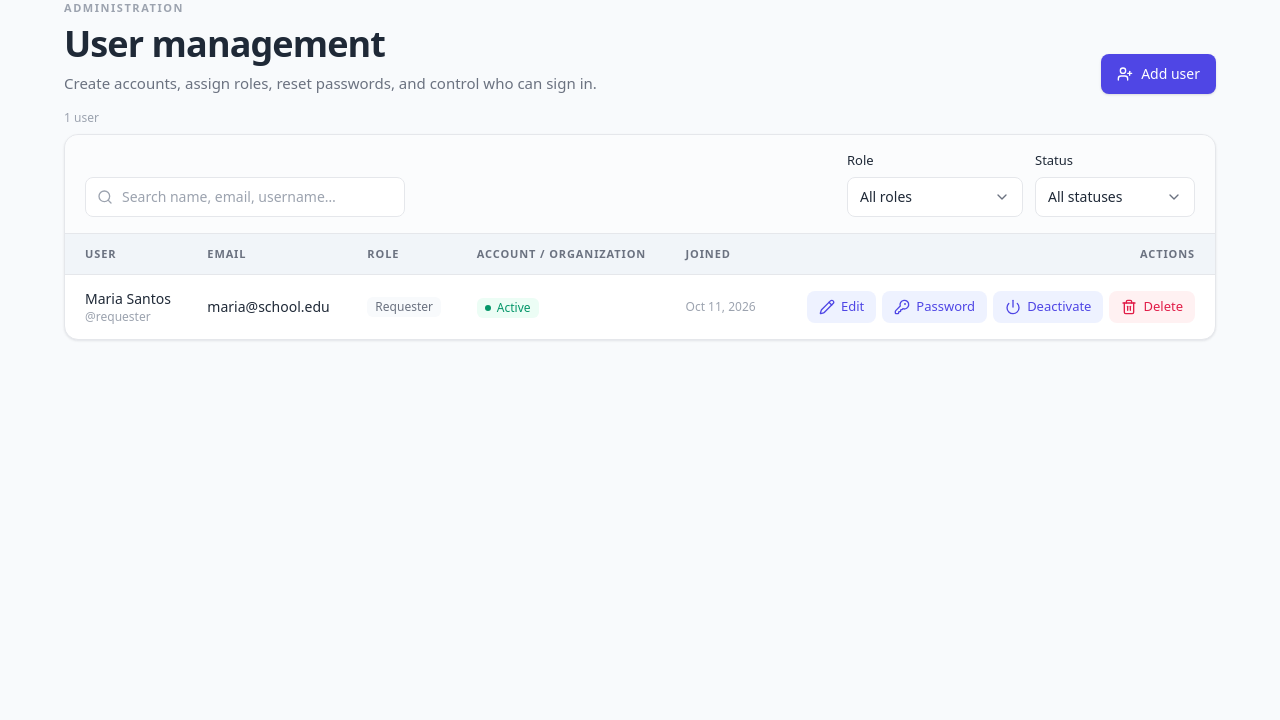
UserManagementPage › confirms before deactivating and explains the consequences
Expected: the text "Maria Santos" is shown, [85, 289, 175, 309]
Click the button with aria-label "Deactivate Maria Santos".
click(1048, 307)  # box [993, 291, 1103, 323]
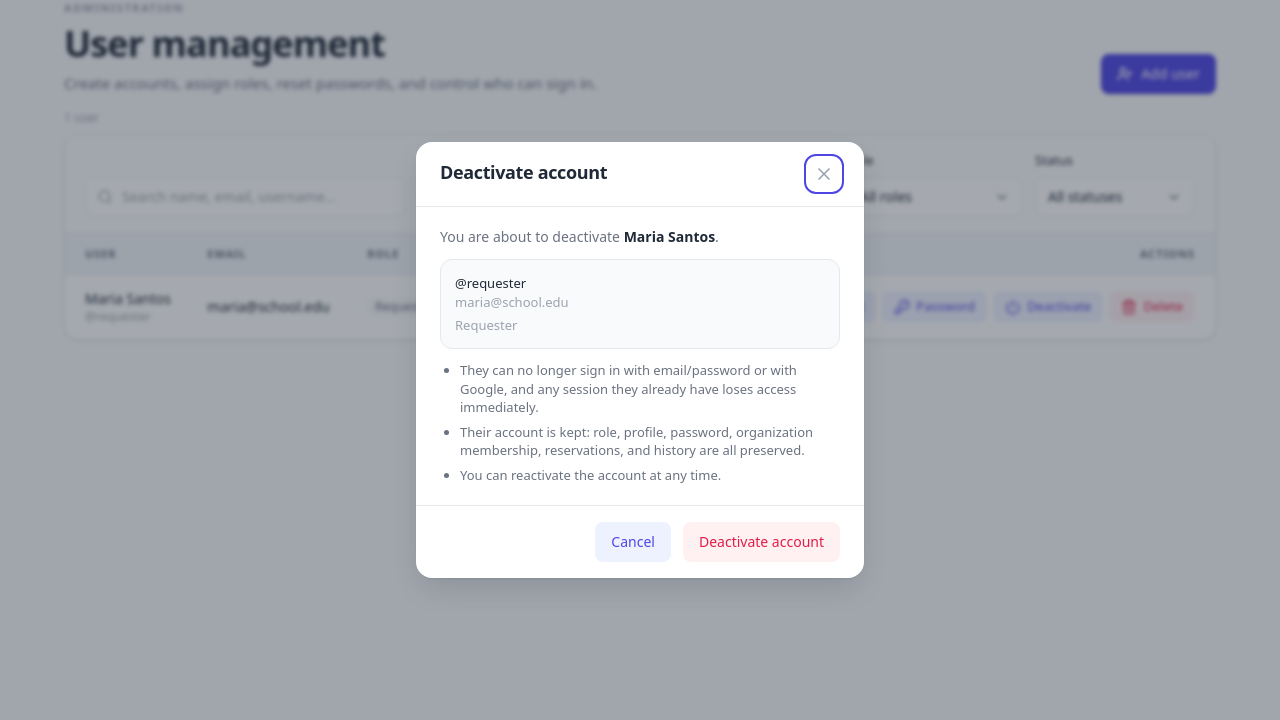
Now the list item "can no longer sign in with email/password or with Google" is shown, box [460, 361, 797, 416]
Now the list item "Their account is kept" is shown, box [460, 423, 813, 459]
Now the list item "You can reactivate the account at any time." is shown, box [460, 466, 721, 484]
Click the button "Deactivate account".
click(762, 542)  # box [683, 522, 840, 562]
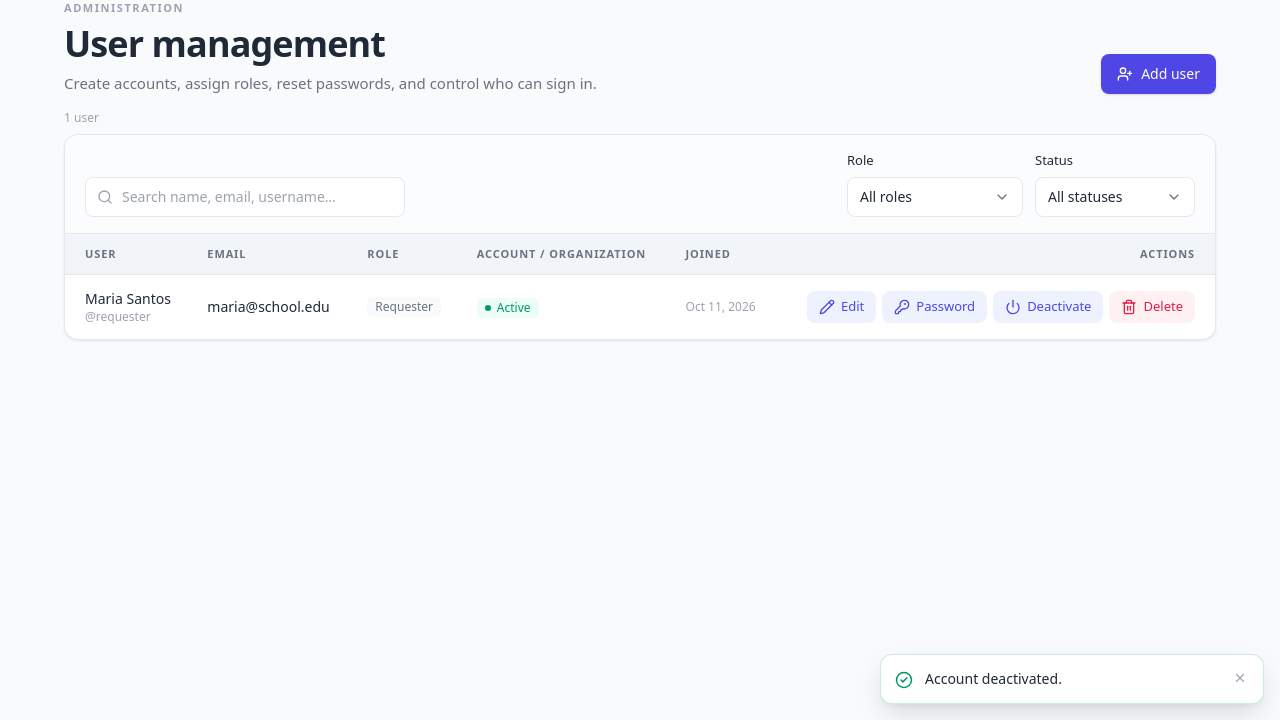
Now the text "Account deactivated." is shown, box [925, 669, 1062, 688]
